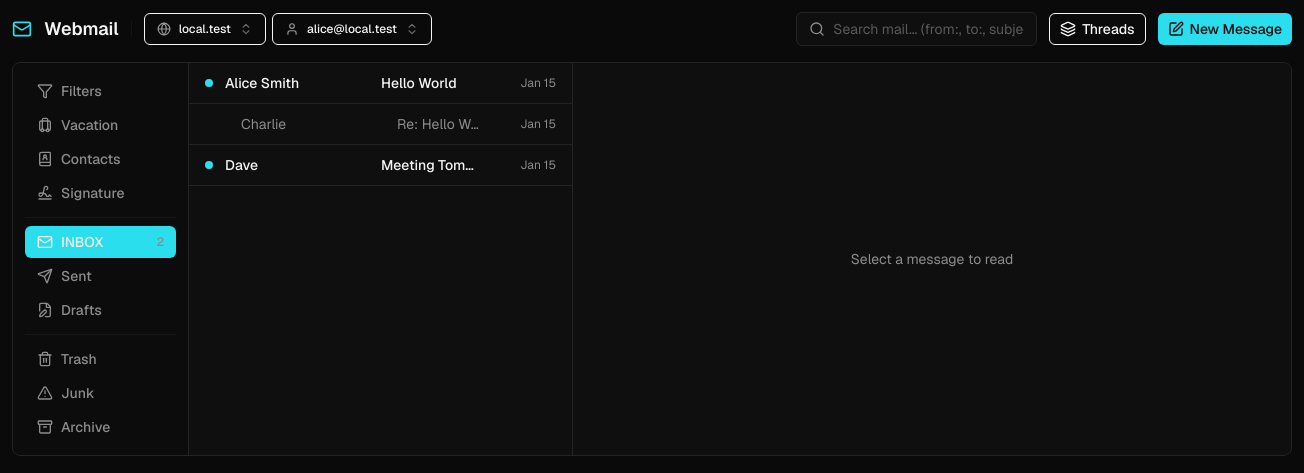
Test case: WebmailPage › switches to thread view when toggle clicked
Click the button with test id "view-toggle-threads" at (1098,29), box [1049,13,1146,45]
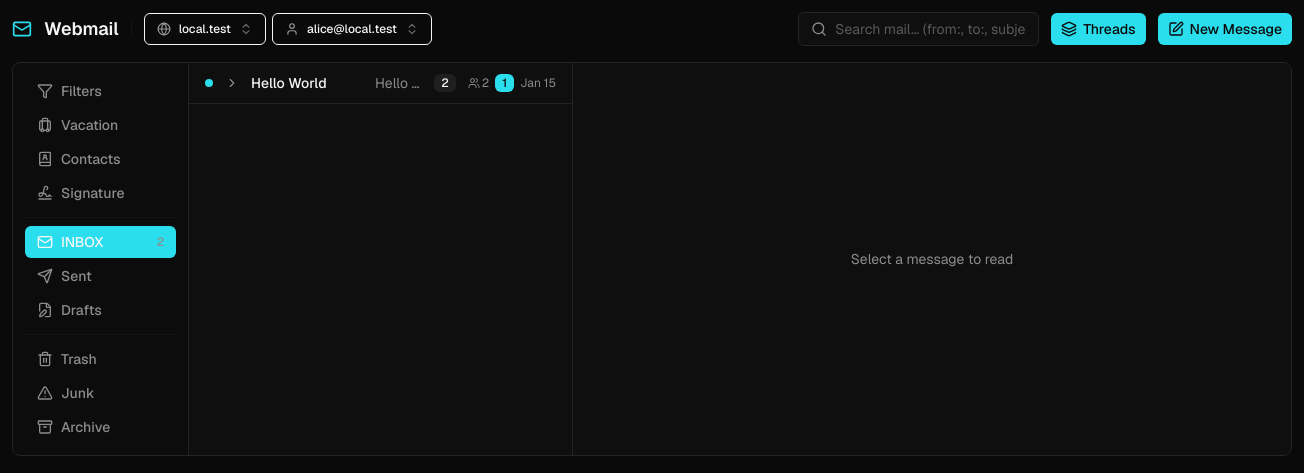
Expected: the table with test id "thread-list" is shown, [189,63,572,104]
